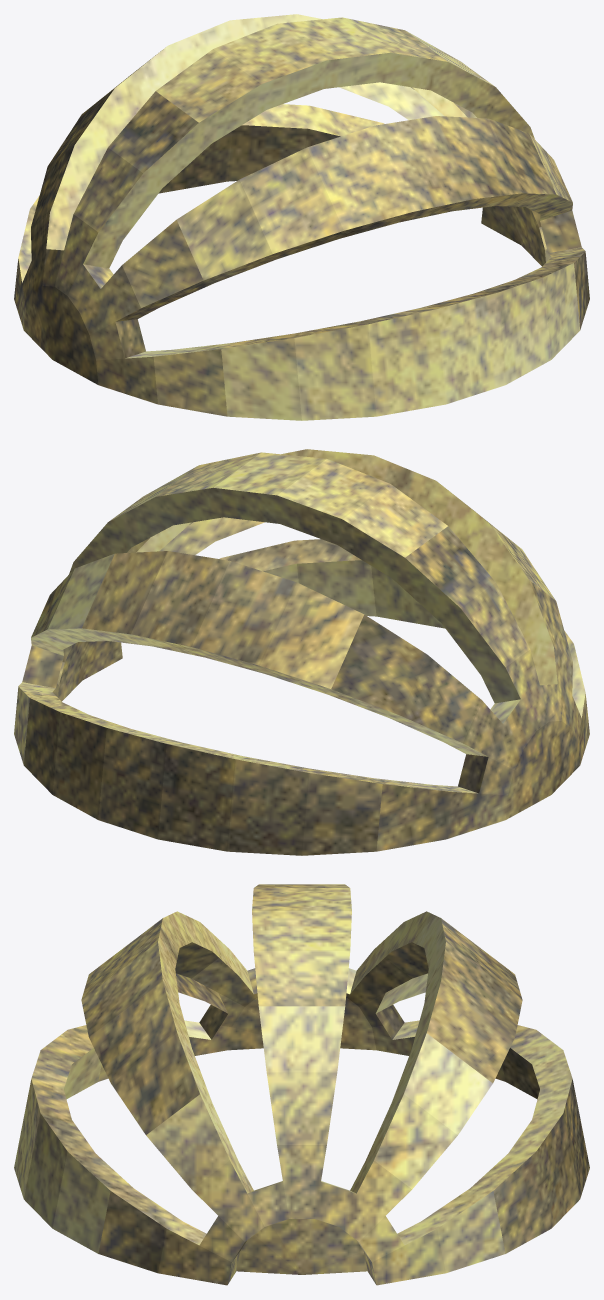
The model's file is head.dae.
3 renders of one model, top to bottom at view 1: azimuth 30°, elevation 25°; view 2: azimuth 150°, elevation 25°; view 3: azimuth 270°, elevation 25°, orthographic.
Parts seen in each view (by area): view 1: Eye_Outer; view 2: Eye_Outer; view 3: Eye_Outer.
Part boxes in pixels (box(x1,y1,x2,y2)): Eye_Outer: box(14, 14, 589, 420); Eye_Outer: box(14, 449, 589, 855); Eye_Outer: box(14, 884, 589, 1285).
Size of the model in its own units: 0.7014 by 0.7135 by 0.3513.
1 material, 1 textured.
